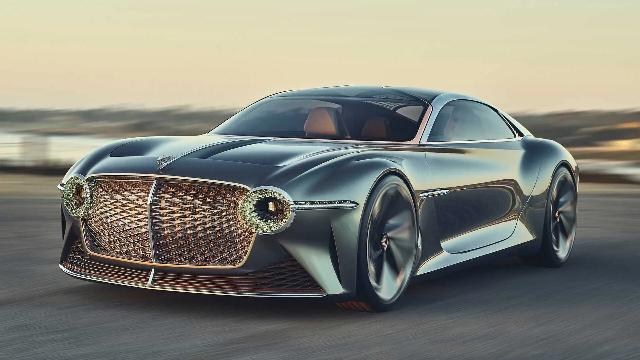bentley: (57, 84, 581, 312)
